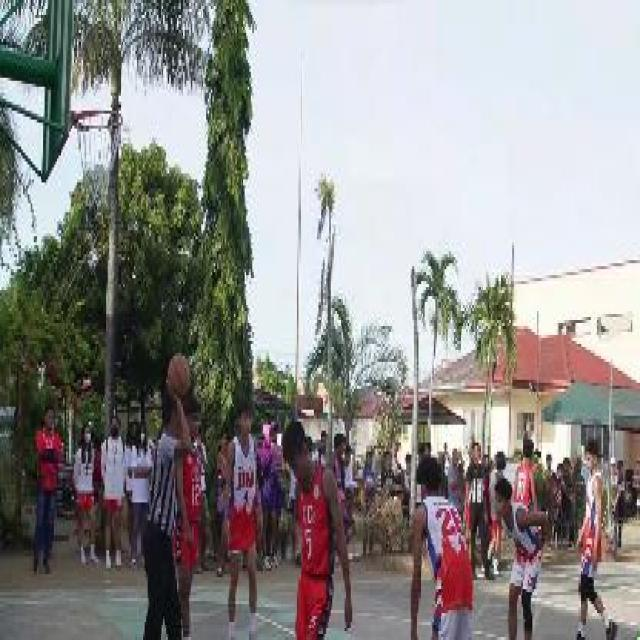ball: (166, 353, 192, 401)
hoop: (70, 109, 124, 134)
